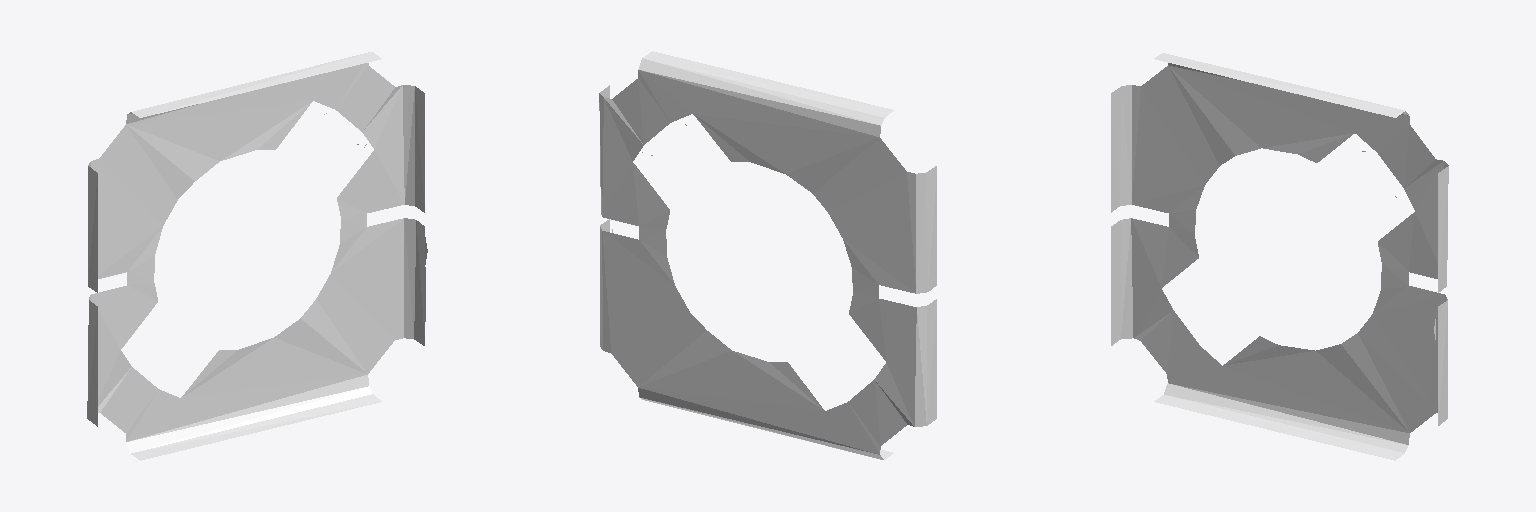
The model's file is pmc_skin_honey.obj.
The picture shows the model from 3 angles: view 1: azimuth 30°, elevation 25°; view 2: azimuth 150°, elevation 25°; view 3: azimuth 330°, elevation 25°; orthographic projection.
Parts seen in each view (by area): view 1: Astrobee.002; view 2: Astrobee.002; view 3: Astrobee.002.
Part boxes in pixels (x1,y1,x2,y2): Astrobee.002: (87,52,427,460); Astrobee.002: (599,51,936,459); Astrobee.002: (1111,53,1448,460).
Size of the model in its own units: 0.2946 by 0.294 by 0.0279.